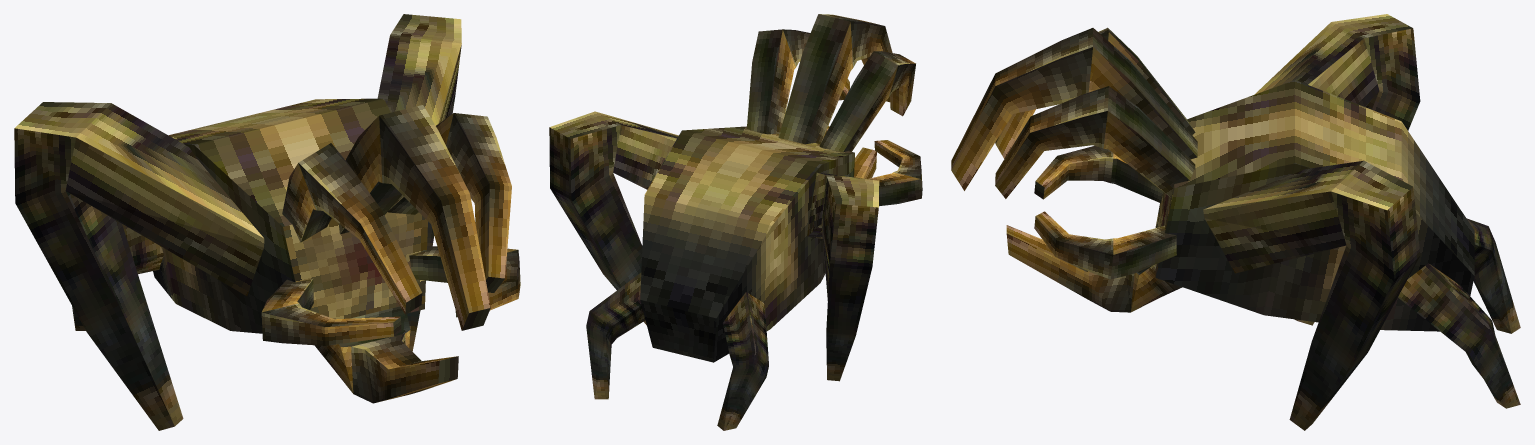
Rendered from lurker.obj.
The picture shows the model from 3 angles, left to right: view 1: azimuth 30°, elevation 25°; view 2: azimuth 150°, elevation 25°; view 3: azimuth 270°, elevation 25°; orthographic projection. The views are drawn at different scales.
Parts seen in each view (by area): view 1: FrontRightLeg, Body, TopMiddleMouth, TopRightMouth, FrontLeftLeg, TopLeftMouth, BottomMouth, RightMouth, LeftMouth, BackRightLeg; view 2: Body, FrontLeftLeg, FrontRightLeg, TopMiddleMouth, TopRightMouth, TopLeftMouth, BackRightLeg, BackLeftLeg, RightMouth, BottomMouth; view 3: Body, FrontLeftLeg, TopMiddleMouth, FrontRightLeg, TopLeftMouth, BackLeftLeg, BottomMouth, LeftMouth, RightMouth, BackRightLeg, TopRightMouth.
Boxes of the visible parts, x1,y1,x2,y2 form: FrontRightLeg: [14, 102, 264, 430]; Body: [153, 98, 427, 333]; TopMiddleMouth: [338, 105, 490, 330]; TopRightMouth: [282, 143, 422, 314]; FrontLeftLeg: [377, 14, 461, 351]; TopLeftMouth: [387, 113, 511, 292]; BottomMouth: [314, 306, 458, 403]; RightMouth: [261, 279, 401, 345]; LeftMouth: [409, 246, 520, 317]; BackRightLeg: [72, 224, 163, 330]; Body: [640, 126, 854, 362]; FrontLeftLeg: [549, 111, 678, 325]; FrontRightLeg: [807, 172, 879, 381]; TopMiddleMouth: [778, 14, 892, 144]; TopRightMouth: [819, 51, 915, 152]; TopLeftMouth: [746, 29, 849, 134]; BackRightLeg: [717, 292, 768, 430]; BackLeftLeg: [586, 272, 645, 399]; RightMouth: [867, 140, 922, 206]; BottomMouth: [854, 147, 876, 178]; Body: [1155, 80, 1474, 331]; FrontLeftLeg: [1203, 160, 1420, 430]; TopMiddleMouth: [951, 28, 1197, 190]; FrontRightLeg: [1254, 14, 1420, 325]; TopLeftMouth: [995, 86, 1195, 198]; BackLeftLeg: [1398, 263, 1520, 408]; BottomMouth: [1006, 225, 1182, 312]; LeftMouth: [1034, 211, 1176, 279]; RightMouth: [1034, 146, 1163, 202]; BackRightLeg: [1466, 218, 1520, 333]; TopRightMouth: [995, 27, 1195, 158].
Size of the model in its own units: 2.07 by 1.67 by 2.54.
